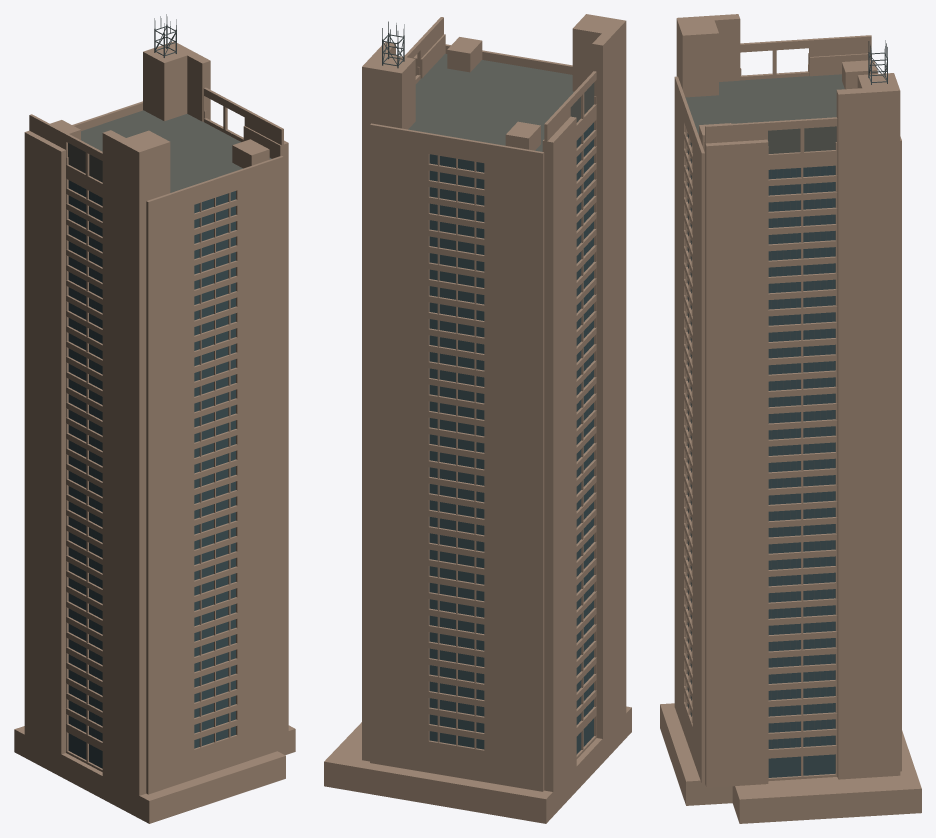
The model's file is rhodes-state-office-tower-near.glb.
The picture shows the model from 3 angles, left to right: view 1: azimuth 30°, elevation 25°; view 2: azimuth 150°, elevation 25°; view 3: azimuth 270°, elevation 25°; orthographic projection. The views are drawn at different scales.
Parts seen in each view (by area): view 1: rhodes-state-office-tower-0-stone, rhodes-state-office-tower-0-glass, rhodes-state-office-tower-0-roof, rhodes-state-office-tower-0-metal; view 2: rhodes-state-office-tower-0-stone, rhodes-state-office-tower-0-glass, rhodes-state-office-tower-0-roof, rhodes-state-office-tower-0-metal; view 3: rhodes-state-office-tower-0-stone, rhodes-state-office-tower-0-glass, rhodes-state-office-tower-0-roof, rhodes-state-office-tower-0-metal.
Boxes of the visible parts, left/top/right/bottom form: rhodes-state-office-tower-0-stone: left=14, top=41, right=295, bottom=823; rhodes-state-office-tower-0-glass: left=68, top=180, right=235, bottom=768; rhodes-state-office-tower-0-roof: left=68, top=110, right=271, bottom=192; rhodes-state-office-tower-0-metal: left=77, top=14, right=176, bottom=741; rhodes-state-office-tower-0-stone: left=324, top=14, right=631, bottom=823; rhodes-state-office-tower-0-glass: left=429, top=122, right=593, bottom=754; rhodes-state-office-tower-0-roof: left=408, top=53, right=594, bottom=151; rhodes-state-office-tower-0-metal: left=382, top=21, right=590, bottom=724; rhodes-state-office-tower-0-stone: left=660, top=14, right=921, bottom=823; rhodes-state-office-tower-0-glass: left=687, top=133, right=835, bottom=777; rhodes-state-office-tower-0-roof: left=685, top=74, right=844, bottom=153; rhodes-state-office-tower-0-metal: left=771, top=40, right=887, bottom=748.
Size of the model in its own units: 63.6 by 202 by 64.11.
